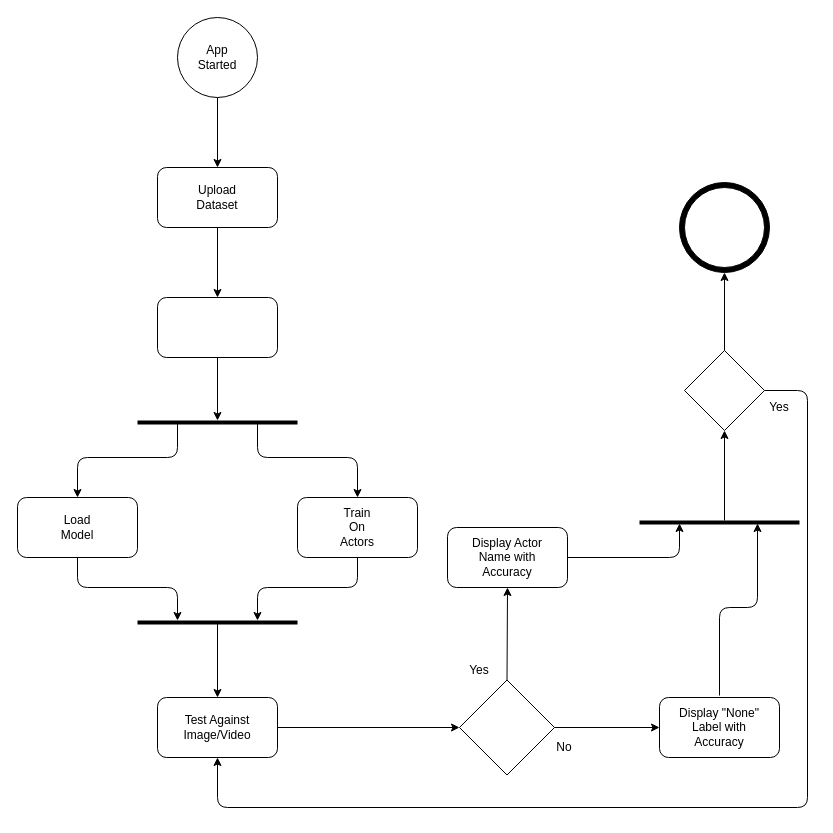
This 833x833 diagram has some shape labels left out. Each missing label, with the centre of its shape:
Actor In Image/Frame?: the point at 506,727
End: the point at 724,227
Initialize GoogLeNet Model: the point at 217,327
Next Frame or Image?: the point at 724,390
